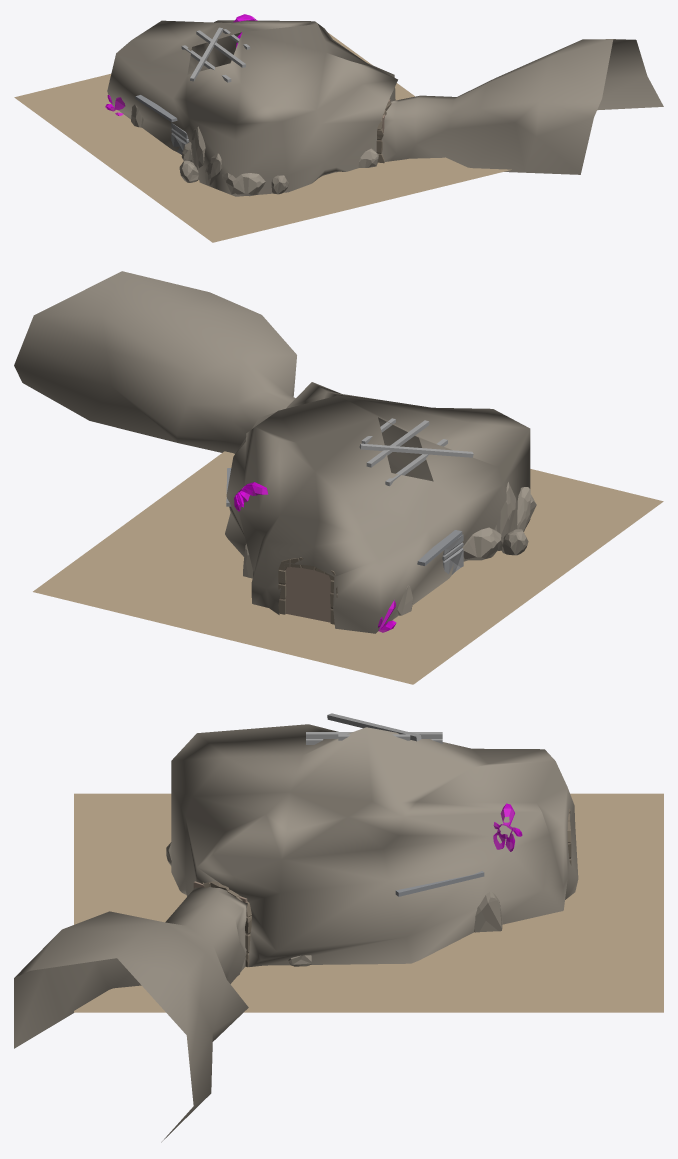
Rendered from LEVLE.fbx.
3 views of the same model, one above another, from view 1: azimuth 30°, elevation 25°; view 2: azimuth 150°, elevation 25°; view 3: azimuth 270°, elevation 25° (orthographic). The views are drawn at different scales.
Parts seen in each view (by area): view 1: pCube7, pCube9, rockpile1, rockpile, pCube17; view 2: pCube7, pCube9, rockpile1, door, pCube6, pCube15, pCube17; view 3: pCube7, pCube9, tall rock 2, Cube3.
Part boxes in pixels (left/top/right/bottom): pCube7: left=107, top=20, right=663, bottom=196; pCube9: left=14, top=33, right=511, bottom=242; rockpile1: left=179, top=126, right=222, bottom=186; rockpile: left=222, top=172, right=288, bottom=196; pCube17: left=171, top=123, right=189, bottom=154; pCube7: left=14, top=271, right=530, bottom=633; pCube9: left=33, top=451, right=663, bottom=684; rockpile1: left=462, top=482, right=530, bottom=560; door: left=285, top=567, right=331, bottom=622; pCube6: left=278, top=557, right=337, bottom=624; pCube15: left=359, top=443, right=473, bottom=457; pCube17: left=442, top=534, right=463, bottom=574; pCube7: left=14, top=724, right=578, bottom=1142; pCube9: left=74, top=793, right=663, bottom=1012; tall rock 2: left=474, top=891, right=502, bottom=932; Cube3: left=493, top=803, right=522, bottom=851.
Bounding box in the file's own units: 7258 × 1788 × 5734.
